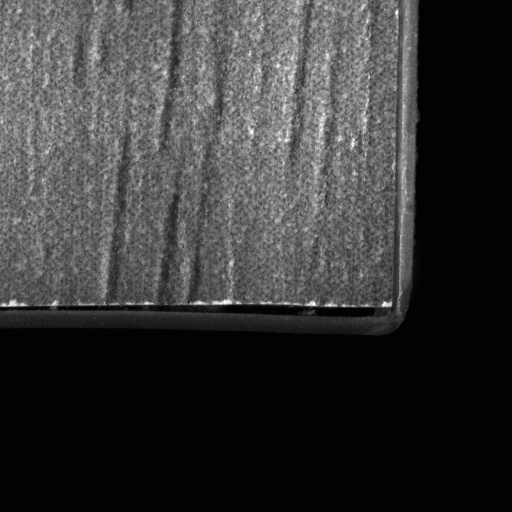jiaofeng: (0, 303, 396, 327)
